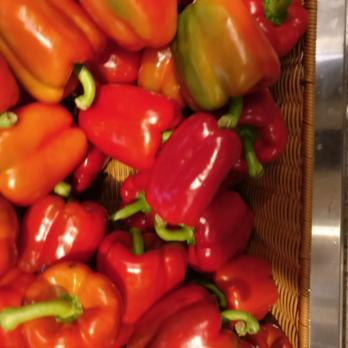Capsicum: (0, 0, 278, 348), (225, 0, 309, 52)
